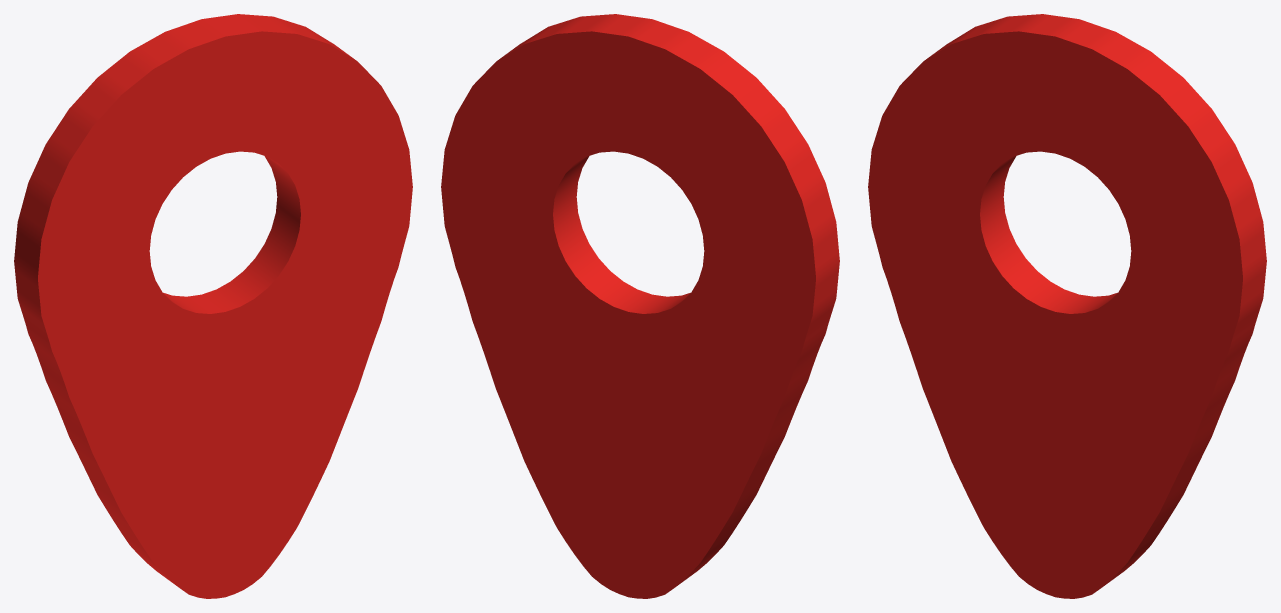
Rendered from goal_pin.glb.
The picture shows the model from 3 angles, left to right: view 1: azimuth 30°, elevation 25°; view 2: azimuth 150°, elevation 25°; view 3: azimuth 330°, elevation 25°; orthographic projection.
Parts seen in each view (by area): view 1: 円; view 2: 円; view 3: 円.
Boxes of the visible parts, x1,y1,x2,y2 form: 円: (14, 14, 412, 598); 円: (441, 14, 839, 598); 円: (868, 14, 1266, 598).
Size of the model in its own units: 0.3923 by 0.5605 by 0.043.
